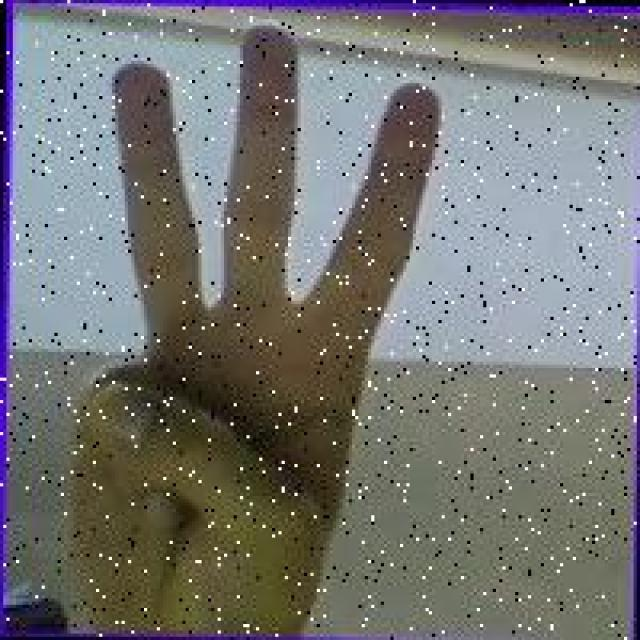W: (66, 6, 443, 640)
